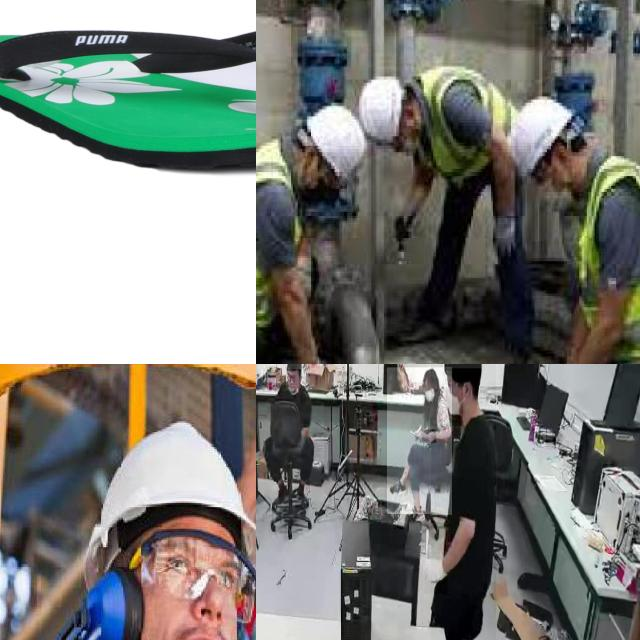Ear-protection: (52, 555, 256, 640)
Sandals: (0, 27, 256, 174)
face_mask: (445, 373, 463, 426), (423, 378, 435, 406)
face_nomask: (286, 371, 300, 391)
glasses: (133, 524, 256, 628)
hand_glove: (424, 552, 448, 595)
hand_noglove: (421, 429, 437, 444)
head_helmet: (77, 411, 256, 552)
head_nohelmet: (422, 367, 438, 379), (286, 364, 301, 370)
person: (0, 393, 256, 640), (431, 364, 496, 640), (256, 364, 324, 521), (387, 367, 452, 515)
shoes: (388, 472, 409, 502), (293, 480, 309, 508)
